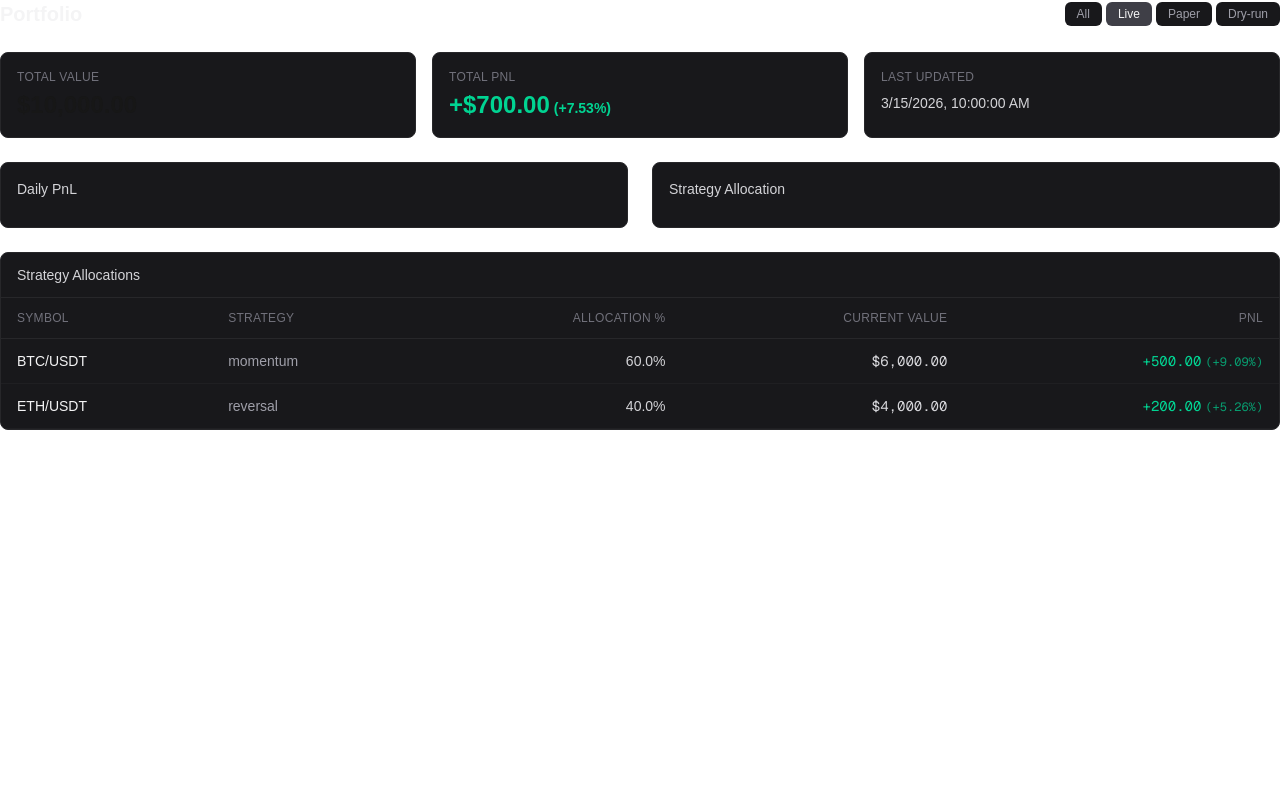
accessibility coverage › keeps portfolio data table and strategy details dialog accessible
Expected: the table named "Strategy allocations table" is shown, [1,298,1279,429]
Step 1. Click the text "BTC/USDT" → (52, 361), box [1,338,212,384]
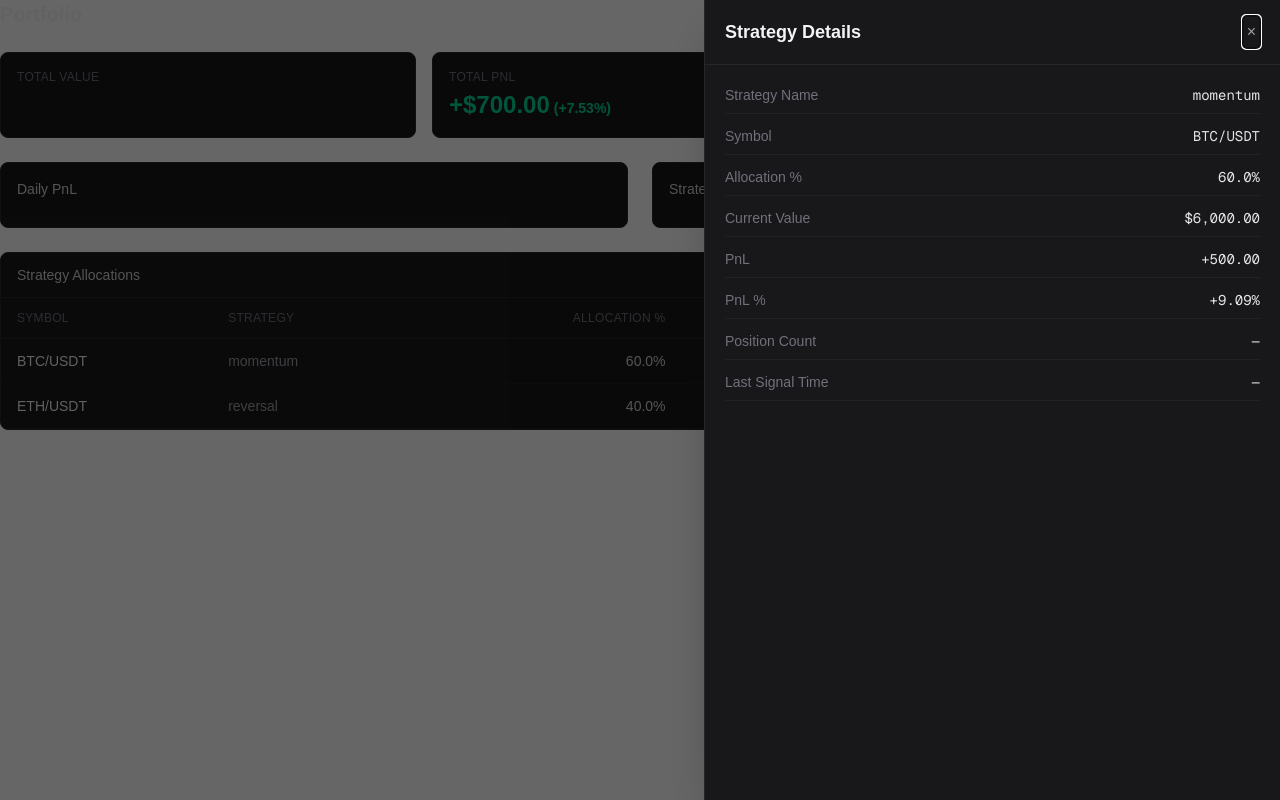
Result: the dialog "Strategy Details" is shown at [704,0,1279,799]
